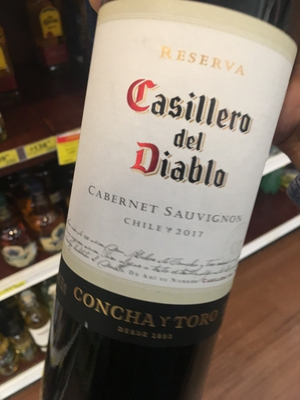casillero del diablo cabernet sauvignon: (52, 1, 297, 400)
